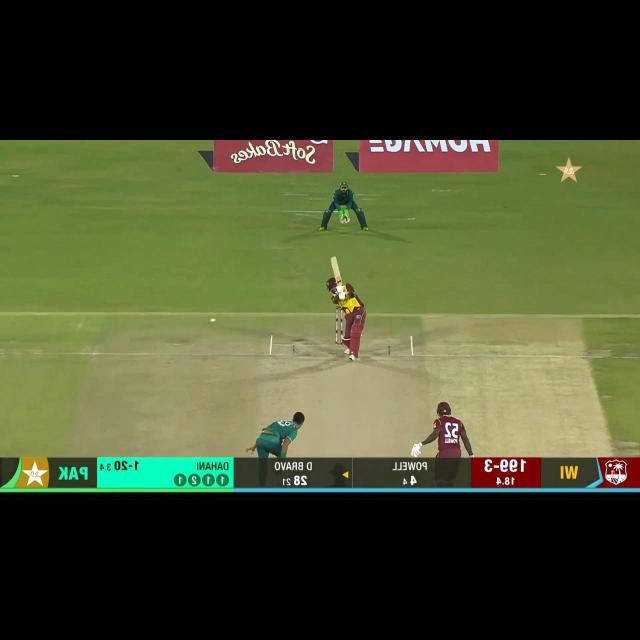bat: (329, 256, 345, 286)
toe: (328, 256, 340, 264)
